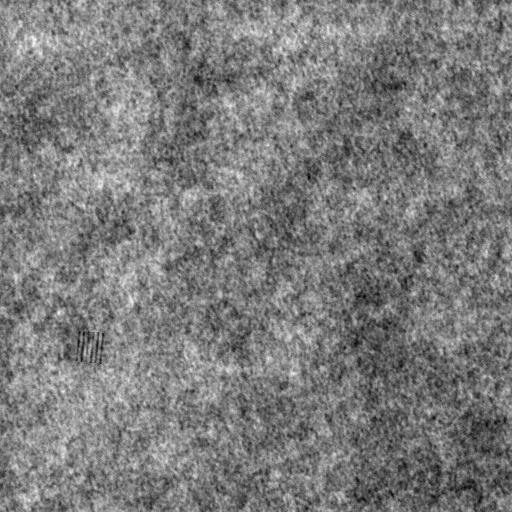DefectTypeB: (76, 329, 104, 364)
